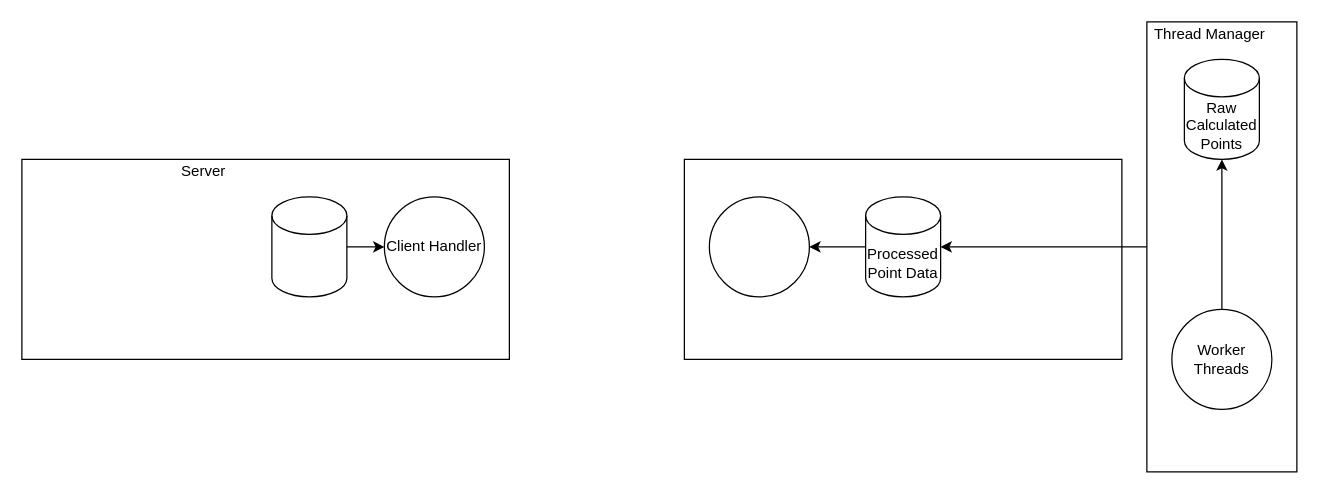
This 1319x494 diagram has some shape labels left out. Here are the shapes that lost their labels. From the top down, the centre of each, then its label:
At pixel 309 246: "Point Data Buffer".
At pixel 758 246: "Client SM".
